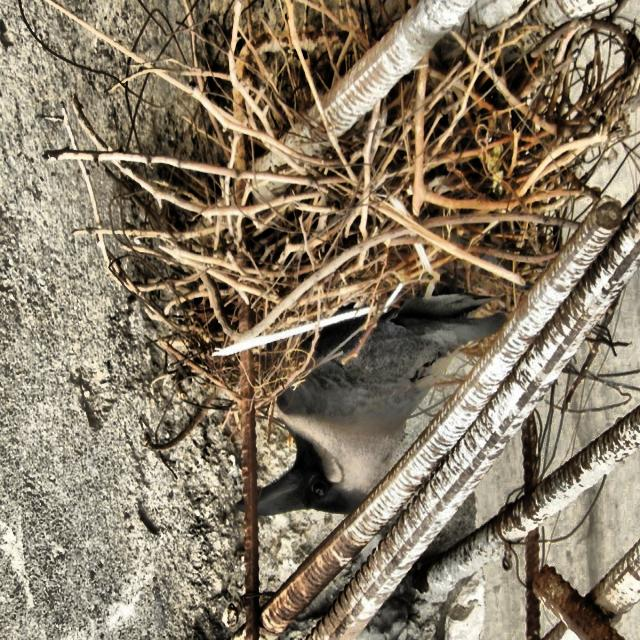crow: (214, 256, 516, 547)
